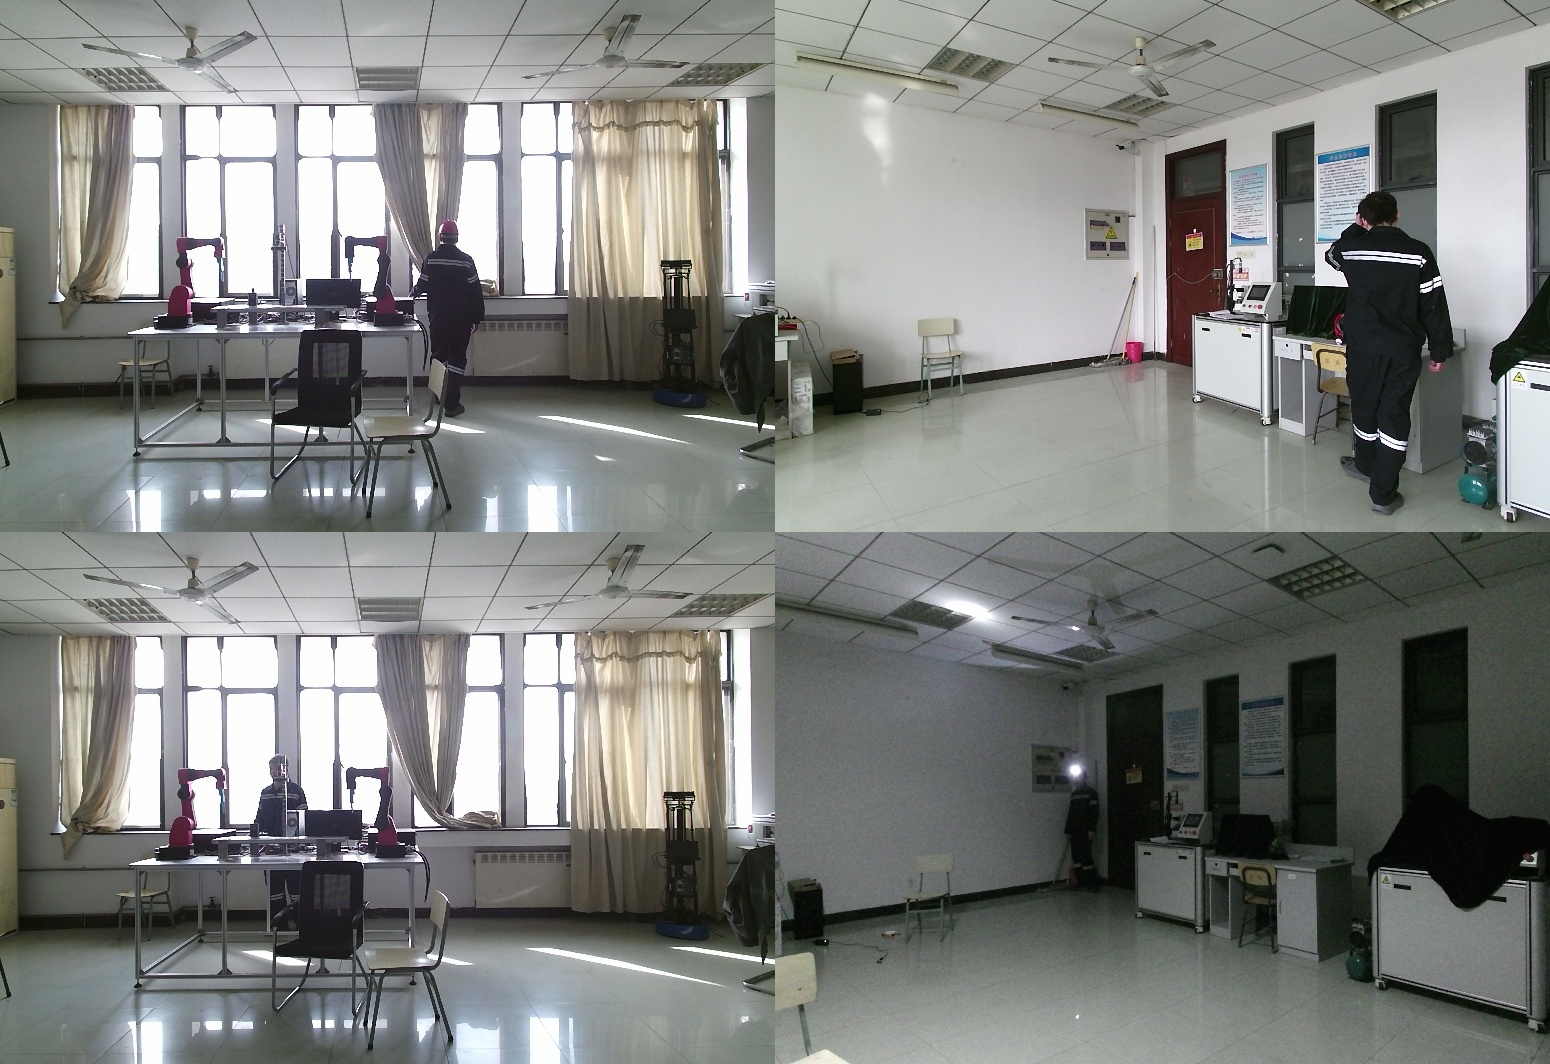person: (1334, 191, 1469, 511), (410, 222, 487, 423), (255, 757, 319, 931), (1064, 766, 1099, 893)
